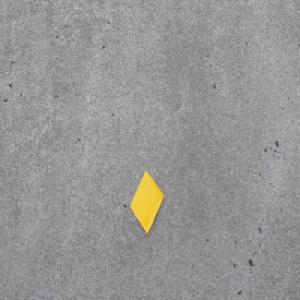PlasticPart: (129, 169, 164, 235)
